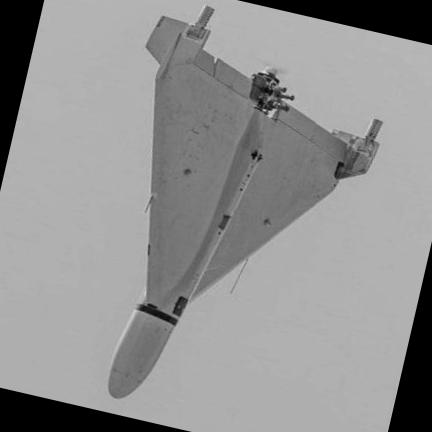Shahed: (108, 7, 381, 398)
